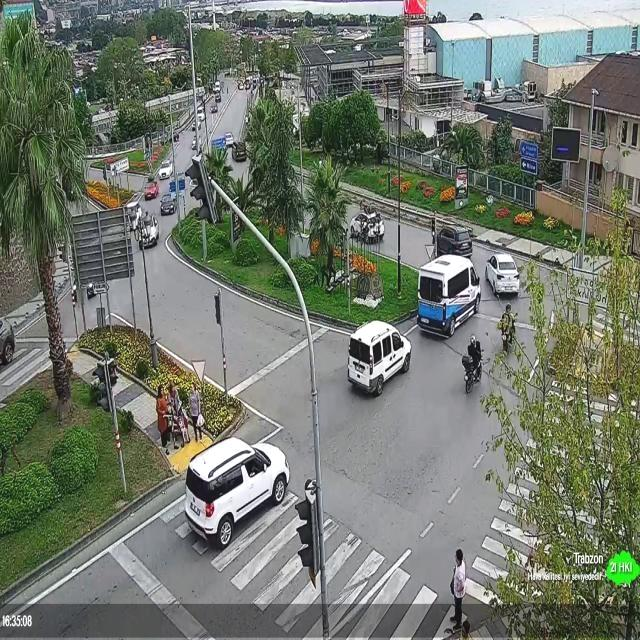Car: (182, 437, 288, 550), (484, 254, 522, 298), (436, 226, 474, 258), (349, 213, 386, 243), (135, 214, 159, 250), (0, 316, 15, 365), (159, 193, 177, 216), (158, 160, 174, 180), (143, 181, 159, 200), (224, 132, 234, 146), (196, 106, 205, 119)
Cycle: (461, 348, 485, 394), (498, 312, 519, 353)
Van: (416, 254, 480, 336), (347, 319, 412, 395), (230, 140, 249, 162)
